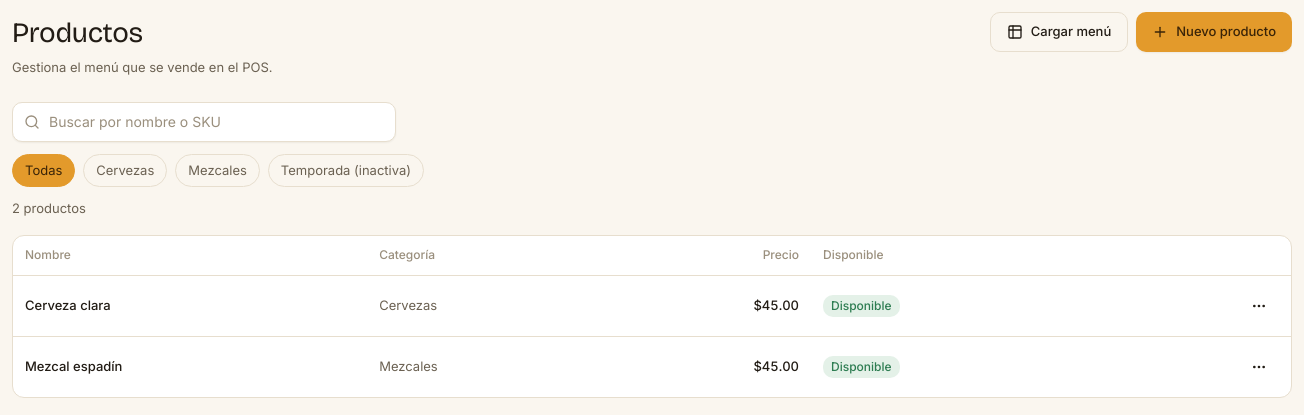
Test: ProductosPage · filtro por categoría › filtra en el servidor: la petición lleva id_categoria
This screenshot has width=1304, height=415.
expect the text "Cerveza clara" is shown: met, box [25,297,111,313]
Click the button "Mezcales".
click(218, 170)  # box [175,154,260,187]
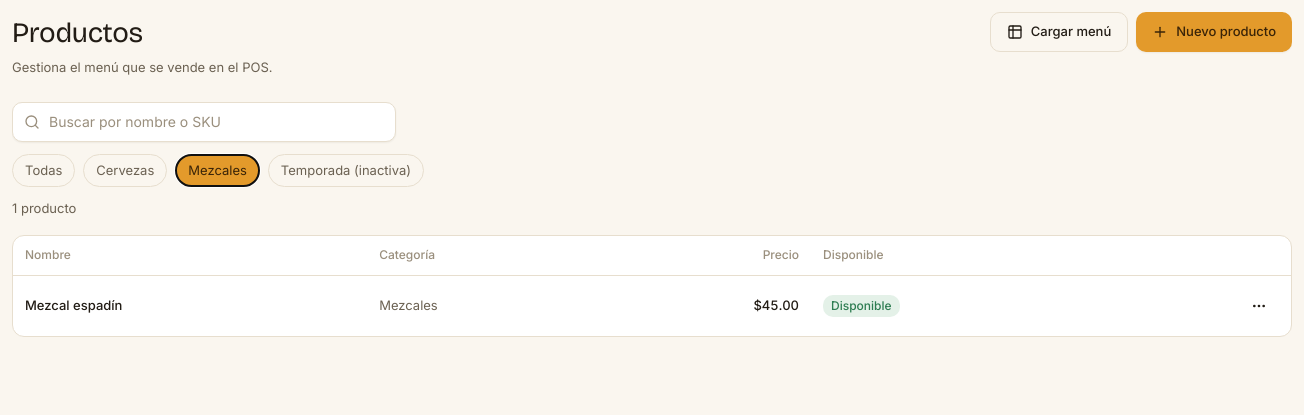
expect the text "Cerveza clara" is gone: met
